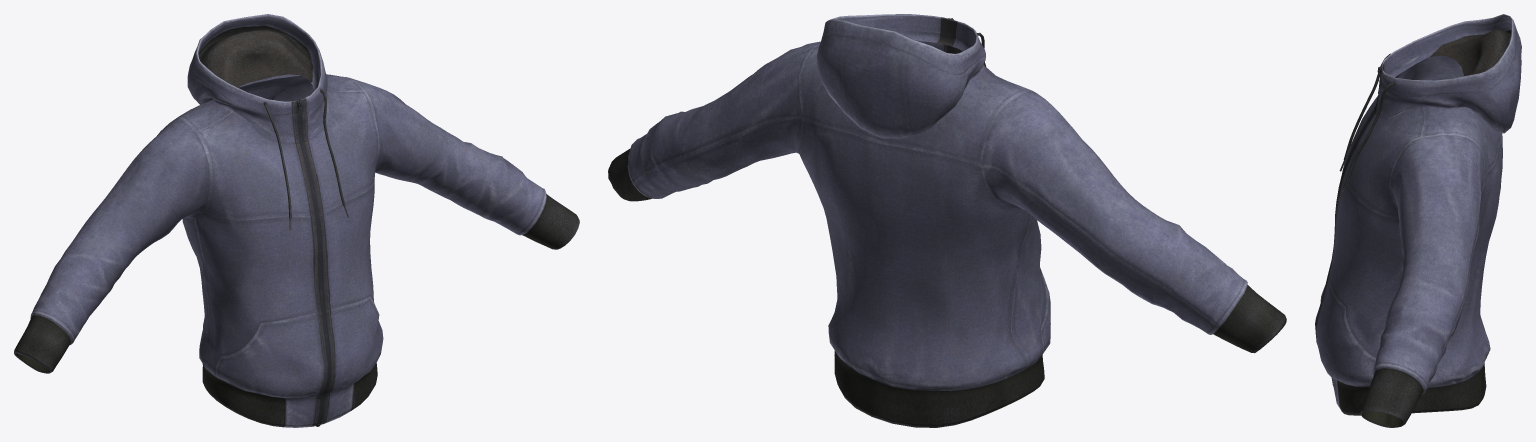
Rendered from jacket3.glb.
3 renders of one model, left to right at view 1: azimuth 30°, elevation 25°; view 2: azimuth 150°, elevation 25°; view 3: azimuth 270°, elevation 25°, orthographic. The views are drawn at different scales.
Visible parts, largest first — view 1: defaultMaterial; view 2: defaultMaterial; view 3: defaultMaterial.
Boxes of the visible parts, x1,y1,x2,y2 form: defaultMaterial: (14, 14, 579, 427); defaultMaterial: (608, 14, 1286, 427); defaultMaterial: (1315, 14, 1521, 427).
Bounding box in the file's own units: 5.56 × 3.32 × 1.66.
1 material, 1 textured.
